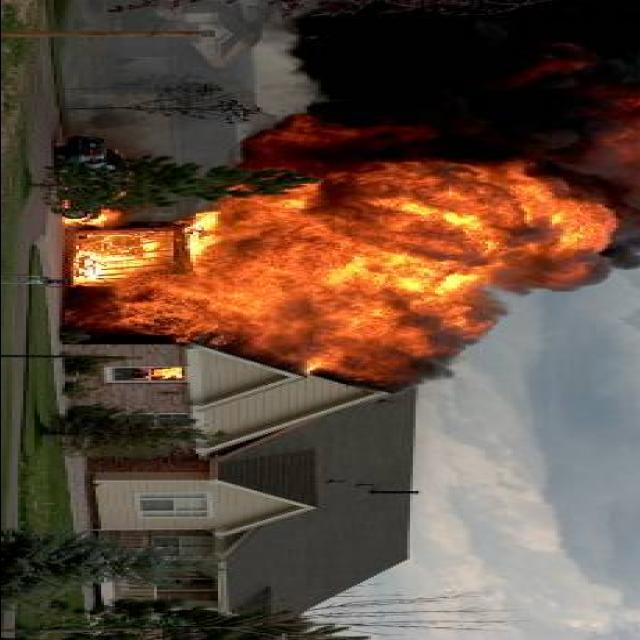Fire: (67, 162, 609, 380)
